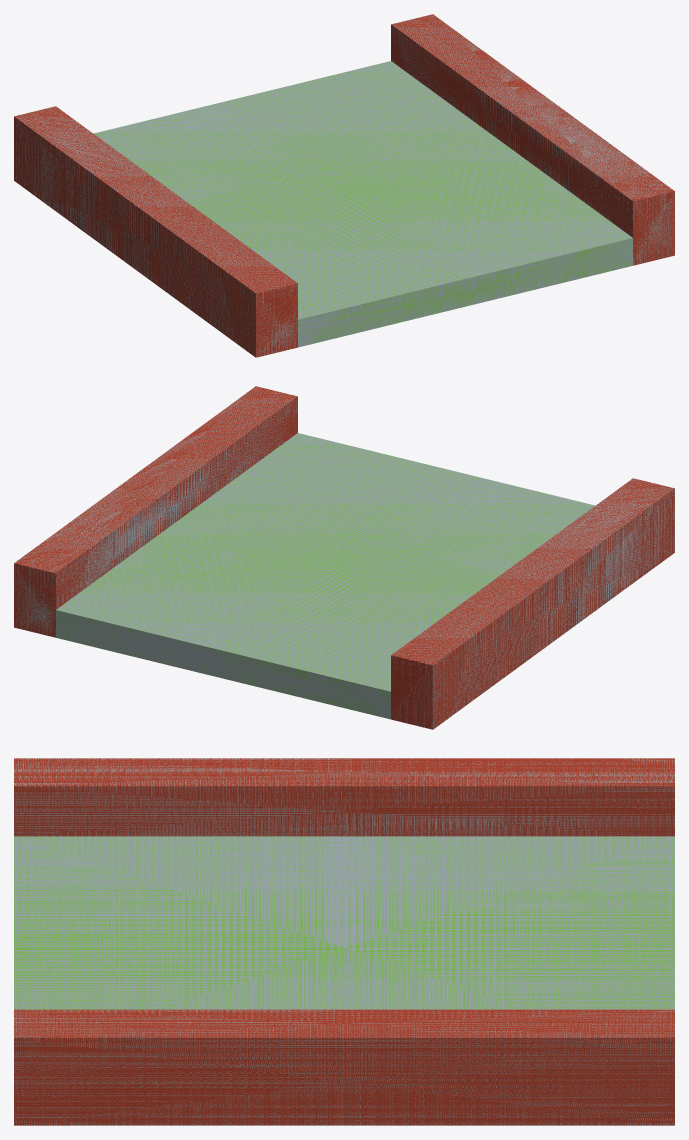
File: Straight_01.fbx
The picture shows the model from 3 angles, top to bottom: view 1: azimuth 30°, elevation 25°; view 2: azimuth 150°, elevation 25°; view 3: azimuth 270°, elevation 25°; orthographic projection. The views are drawn at different scales.
Visible parts, largest first — view 1: Mesh1_Straight Model; view 2: Mesh1_Straight Model; view 3: Mesh1_Straight Model.
Part boxes in pixels (left/top/right/bottom): Mesh1_Straight Model: left=14, top=14, right=674, bottom=357; Mesh1_Straight Model: left=14, top=386, right=674, bottom=729; Mesh1_Straight Model: left=14, top=758, right=674, bottom=1125.
Size of the model in its own units: 3 by 0.44 by 3.
